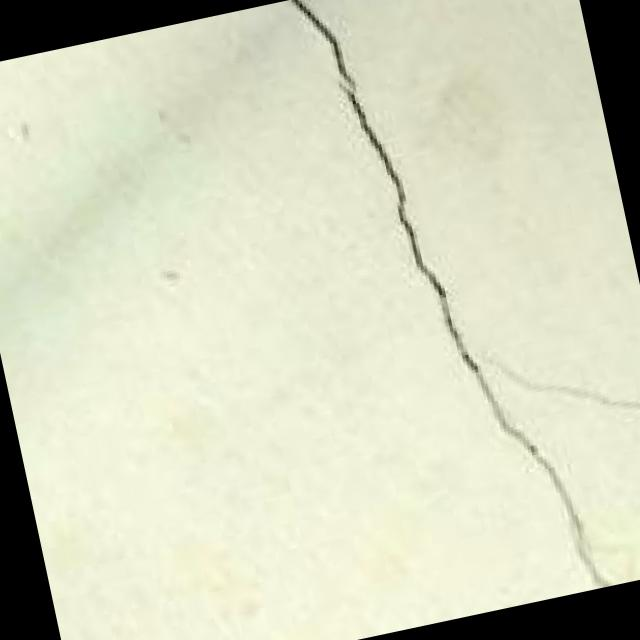crack: (278, 0, 640, 625)
